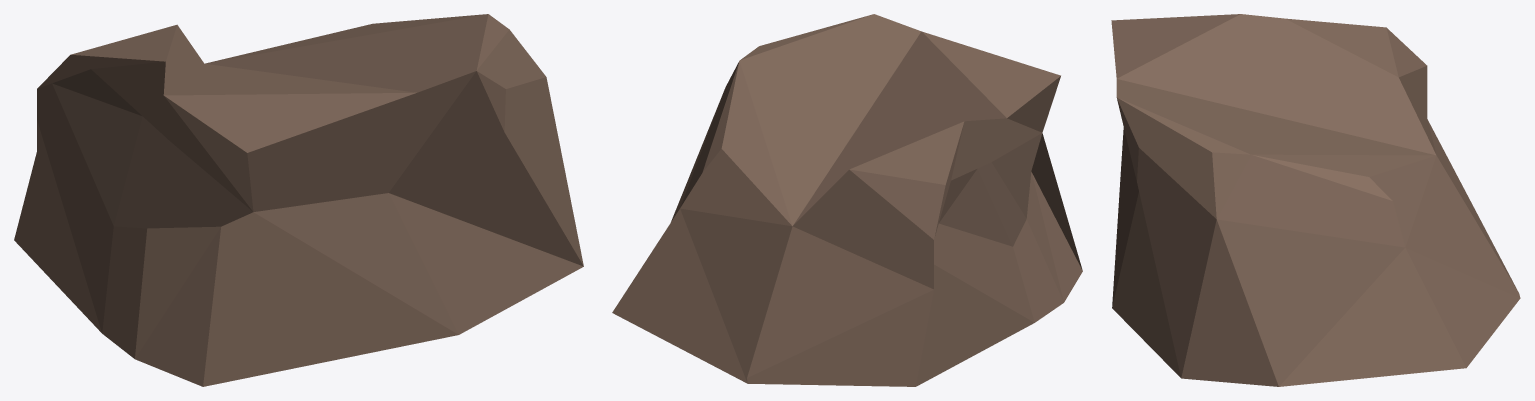
The model's file is rock1.fbx.
3 views of the same model, side by side, from view 1: azimuth 30°, elevation 25°; view 2: azimuth 150°, elevation 25°; view 3: azimuth 270°, elevation 25° (orthographic). The views are drawn at different scales.
Visible parts, largest first — view 1: Cube; view 2: Cube; view 3: Cube.
Boxes of the visible parts, bbox=[...] form: Cube: bbox=[14, 14, 583, 386]; Cube: bbox=[612, 14, 1082, 386]; Cube: bbox=[1111, 14, 1520, 386].
Bounding box in the file's own units: 1297 × 736 × 1170.
